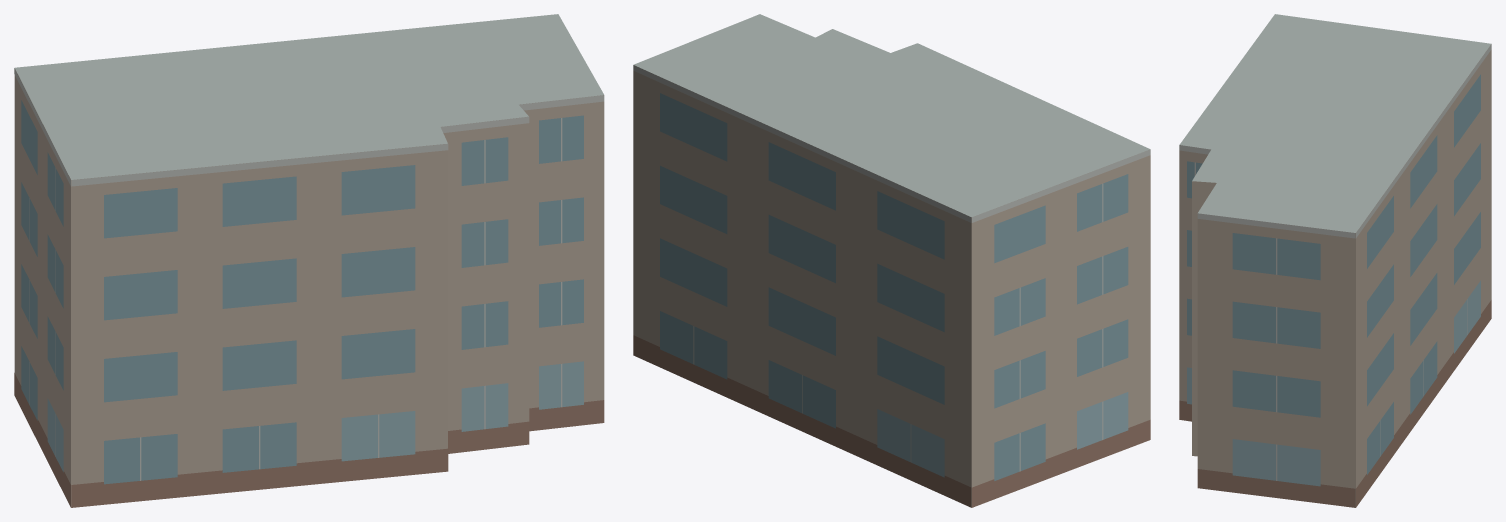
File: survey-upis-32814686.glb
The picture shows the model from 3 angles, left to right: view 1: azimuth 30°, elevation 25°; view 2: azimuth 150°, elevation 25°; view 3: azimuth 270°, elevation 25°; orthographic projection. The views are drawn at different scales.
Parts seen in each view (by area): view 1: survey-upis-32814686.tmp; view 2: survey-upis-32814686.tmp; view 3: survey-upis-32814686.tmp.
Boxes of the visible parts, bbox=[...] form: survey-upis-32814686.tmp: bbox=[14, 14, 604, 507]; survey-upis-32814686.tmp: bbox=[633, 14, 1150, 507]; survey-upis-32814686.tmp: bbox=[1179, 14, 1491, 507].
Size of the model in its own units: 20.87 by 12.2 by 12.57.
